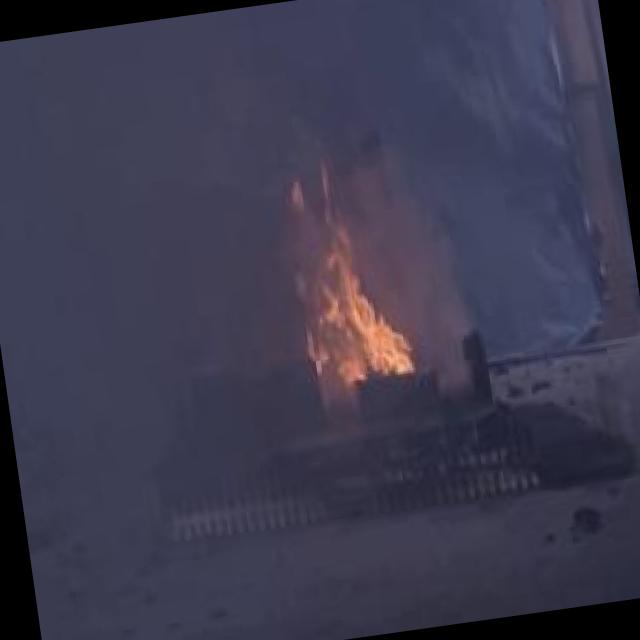fire: (296, 207, 423, 420)
